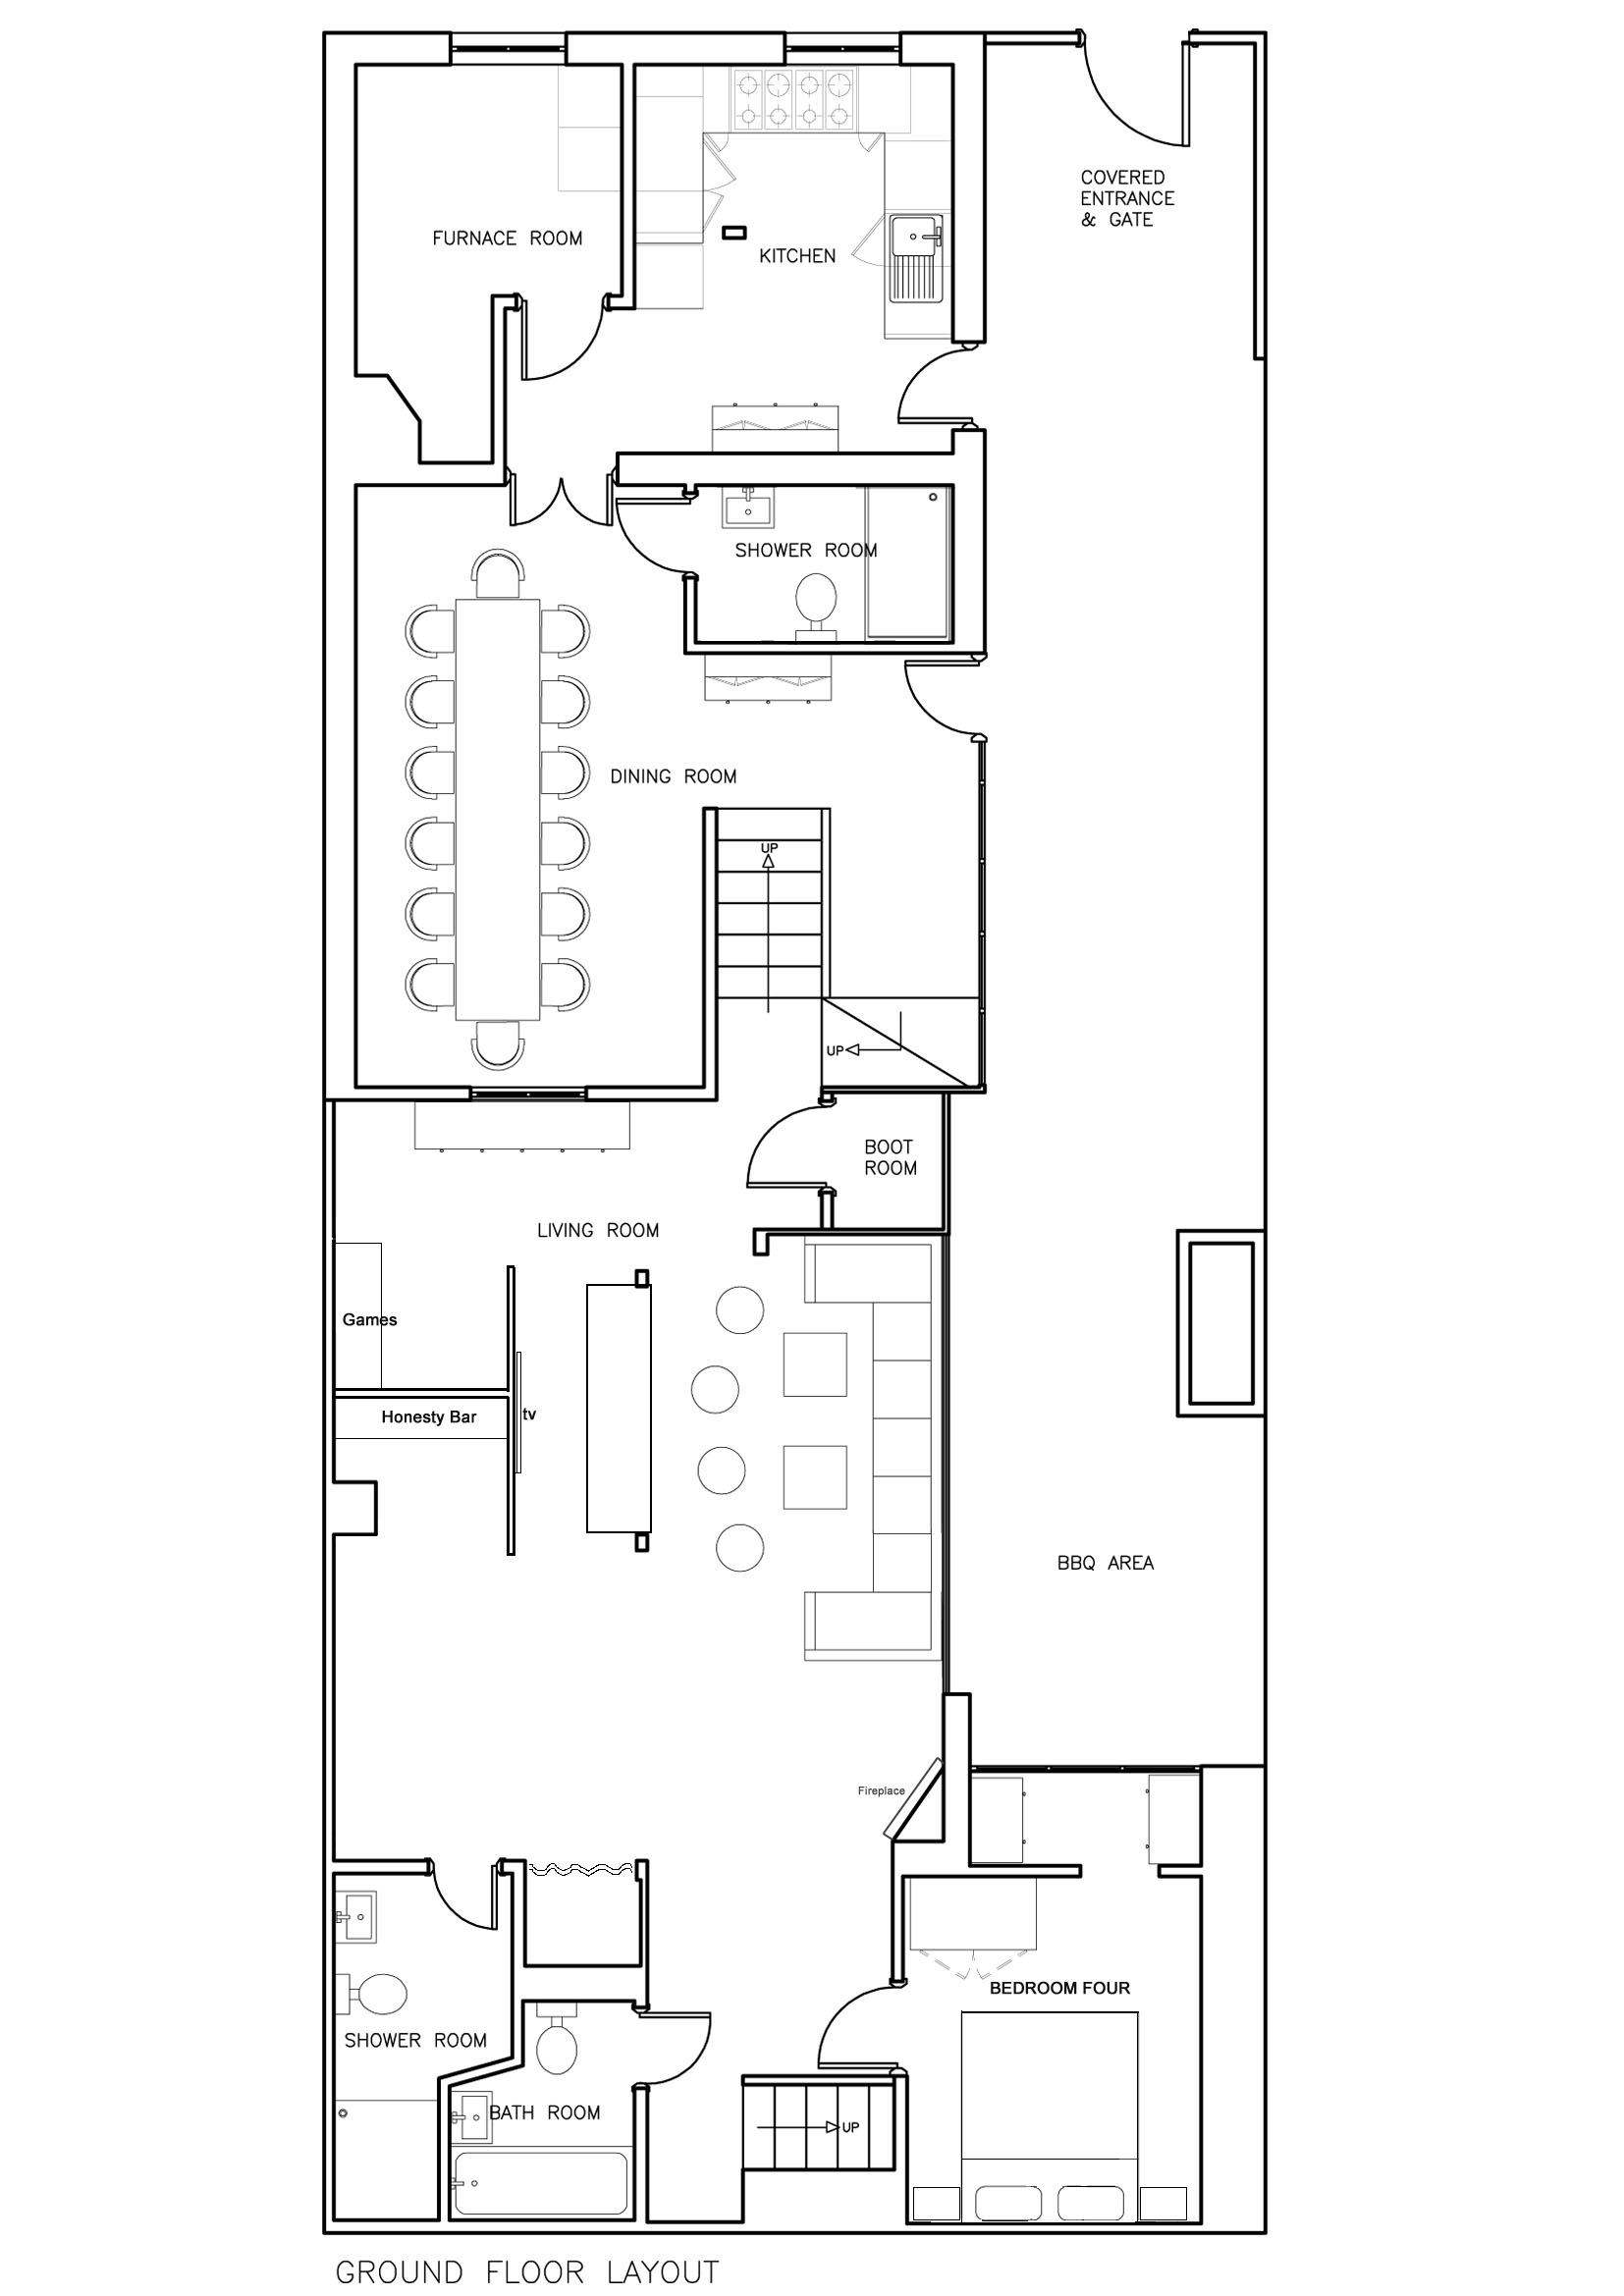door: (1083, 44, 1197, 155), (518, 313, 605, 399), (740, 1103, 819, 1191), (810, 1982, 886, 2073), (886, 346, 965, 429), (506, 483, 615, 538), (902, 657, 977, 734), (652, 2004, 717, 2094), (610, 495, 677, 580), (429, 1878, 501, 1936)
